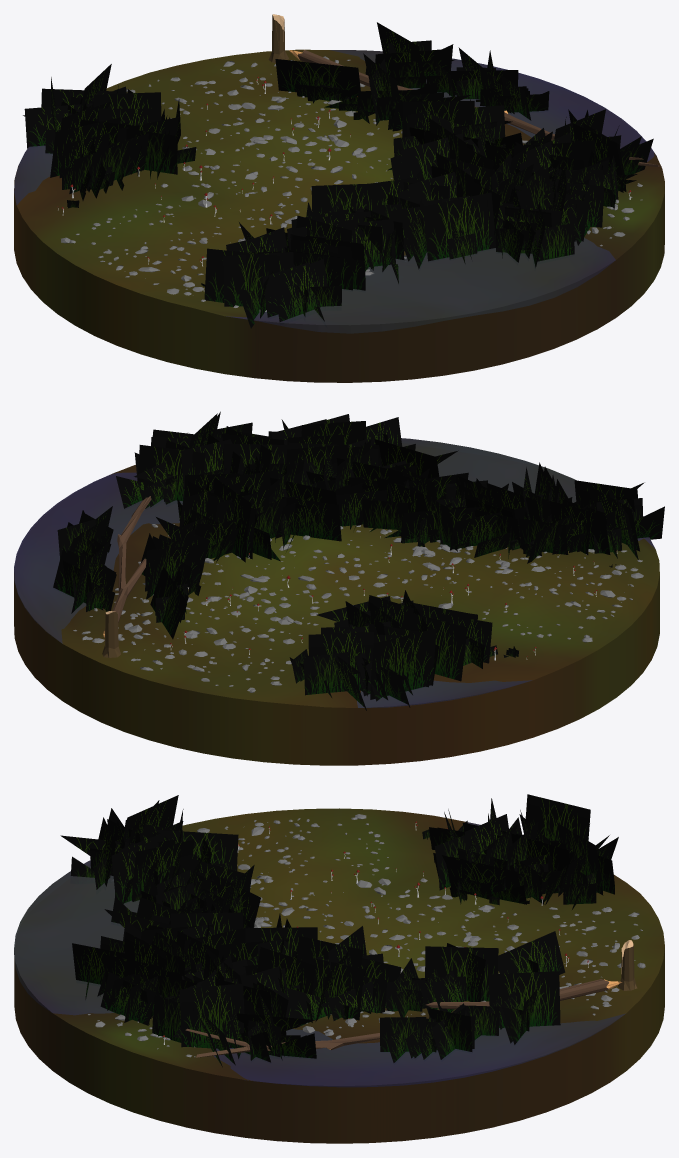
File: Biome_Swamp_LD.glb
The picture shows the model from 3 angles, top to bottom: view 1: azimuth 30°, elevation 25°; view 2: azimuth 150°, elevation 25°; view 3: azimuth 270°, elevation 25°; orthographic projection.
Visible parts, largest first — view 1: Swamp_1, Swamp_1_GrassScatter, Swamp_1_water, Swamp_1_Rocks_Scatter, FallenTree, Stump_C; view 2: Swamp_1, Swamp_1_GrassScatter, Swamp_1_water, Swamp_1_Rocks_Scatter, FallenTree, Stump_C; view 3: Swamp_1, Swamp_1_GrassScatter, Swamp_1_water, Swamp_1_Rocks_Scatter, FallenTree, Stump_C.
Boxes of the visible parts, <box> form: Swamp_1: <box>14,49,664,382</box>; Swamp_1_GrassScatter: <box>23,22,653,328</box>; Swamp_1_water: <box>14,50,656,333</box>; Swamp_1_Rocks_Scatter: <box>61,56,642,311</box>; FallenTree: <box>289,49,661,166</box>; Stump_C: <box>268,14,288,63</box>; Swamp_1: <box>14,464,659,765</box>; Swamp_1_GrassScatter: <box>53,411,664,710</box>; Swamp_1_water: <box>14,438,655,707</box>; Swamp_1_Rocks_Scatter: <box>73,518,643,692</box>; FallenTree: <box>103,433,187,640</box>; Stump_C: <box>102,611,120,657</box>; Swamp_1: <box>14,808,664,1143</box>; Swamp_1_GrassScatter: <box>60,794,618,1067</box>; Swamp_1_water: <box>14,821,625,1087</box>; Swamp_1_Rocks_Scatter: <box>87,814,645,1057</box>; FallenTree: <box>185,979,622,1057</box>; Stump_C: <box>618,940,637,990</box>.
Bounding box in the file's own units: 12.2 × 2.42 × 12.2.
Materials: 19 (1 with a texture image).
